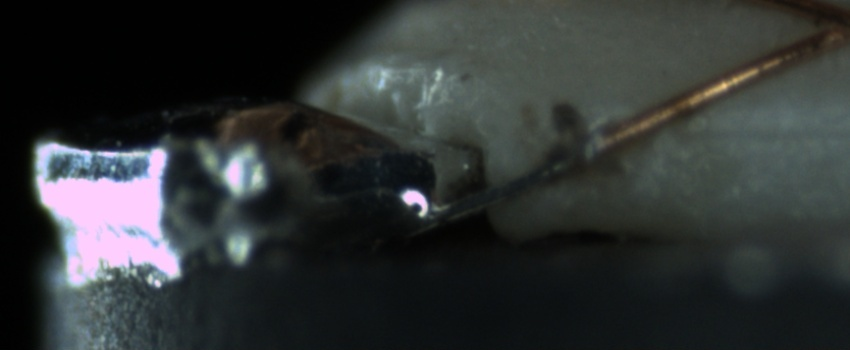CL: (794, 4, 850, 57)
DL: (678, 100, 850, 165)
TS: (414, 135, 610, 232)
TTCW: (428, 109, 658, 230)
